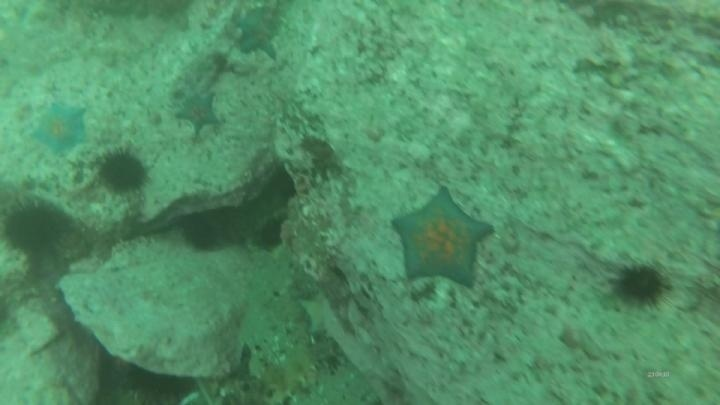echinus: (1, 198, 72, 259), (611, 261, 670, 308), (97, 148, 150, 195), (124, 368, 194, 403), (179, 218, 224, 254), (253, 214, 288, 253)
holothurian: (258, 339, 327, 404)
starfish: (390, 186, 494, 288), (28, 101, 90, 156), (233, 9, 282, 61), (174, 90, 222, 137), (296, 290, 339, 342)
